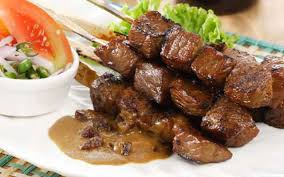sate: (72, 9, 283, 168)
